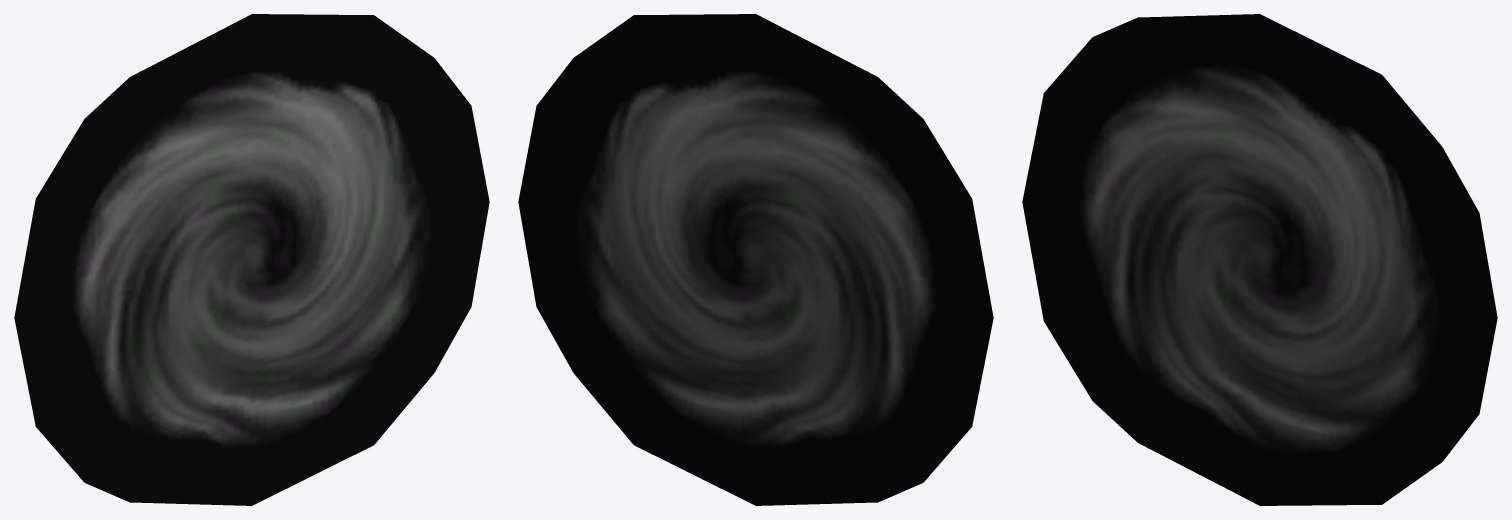
Rendered from tx_yatelandisi_fuben_223_xuanwo.obj.
3 views of the same model, side by side, from view 1: azimuth 30°, elevation 25°; view 2: azimuth 150°, elevation 25°; view 3: azimuth 330°, elevation 25° (orthographic).
Visible parts, largest first — view 1: NQ; view 2: NQ; view 3: NQ.
Part boxes in pixels (x1,y1,x2,y2): NQ: (14, 14, 489, 505); NQ: (518, 14, 993, 505); NQ: (1022, 14, 1497, 505).
Bounding box in the file's own units: 6808 × 6733 × 0.000671.
1 material, 1 textured.
